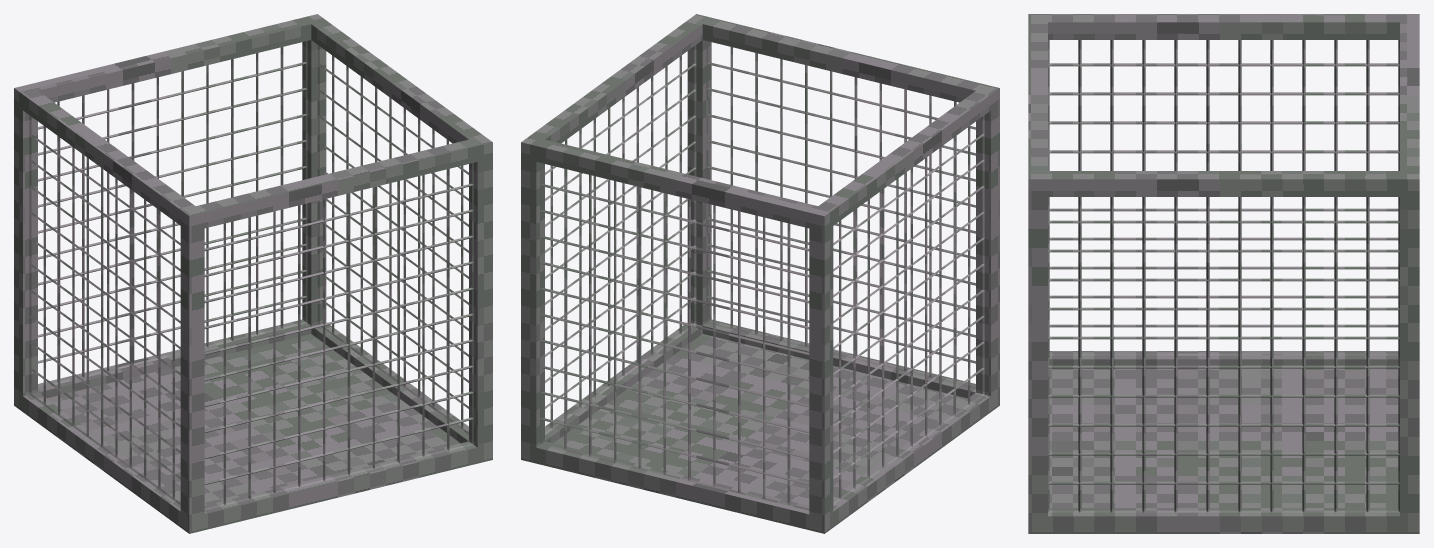
The picture shows the model from 3 angles, left to right: view 1: azimuth 30°, elevation 25°; view 2: azimuth 150°, elevation 25°; view 3: azimuth 270°, elevation 25°; orthographic projection. The views are drawn at different scales.
Parts seen in each view (by area): view 1: Box; view 2: Box; view 3: Box.
Boxes of the visible parts, left/top/right/bottom form: Box: left=14, top=14, right=492, bottom=533; Box: left=521, top=14, right=999, bottom=533; Box: left=1028, top=14, right=1419, bottom=533.
Size of the model in its own units: 1 by 1 by 1.
Materials: 1 (1 with a texture image).
